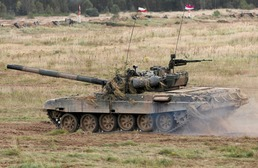t72: (7, 59, 246, 135)
